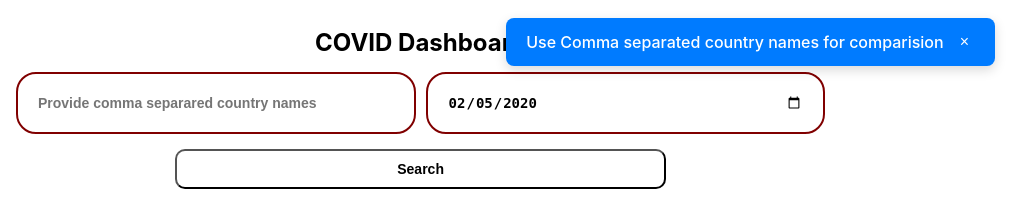
Test: stops on first invalid country in multiple input
Type "India, InvalidCountry" into the field with placeholder "Provide comma separared country names".
click(216, 103); type("India, InvalidCountry")  # box x1=16 y1=72 x2=416 y2=134
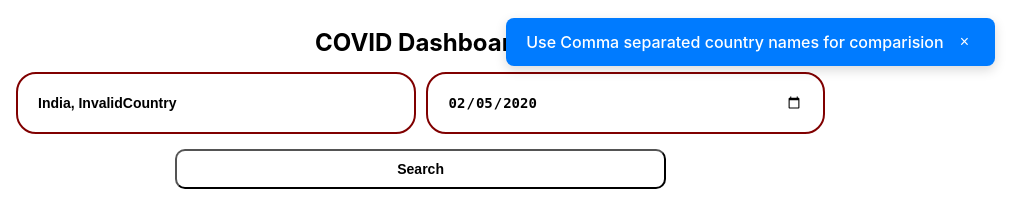
Click the button "Search".
click(421, 169)  # box x1=175 y1=149 x2=666 y2=189
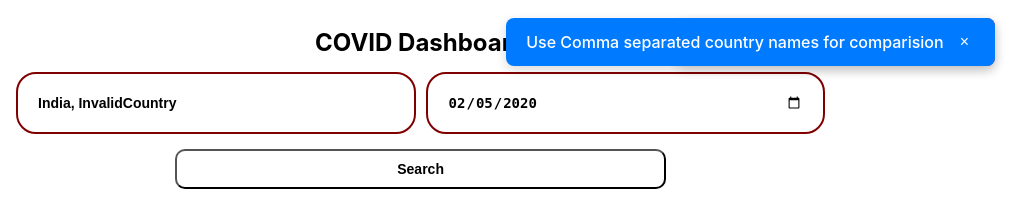
Check: the text "Country:- InvalidCountry, Invalid ×" is shown, box x1=676 y1=18 x2=995 y2=66
